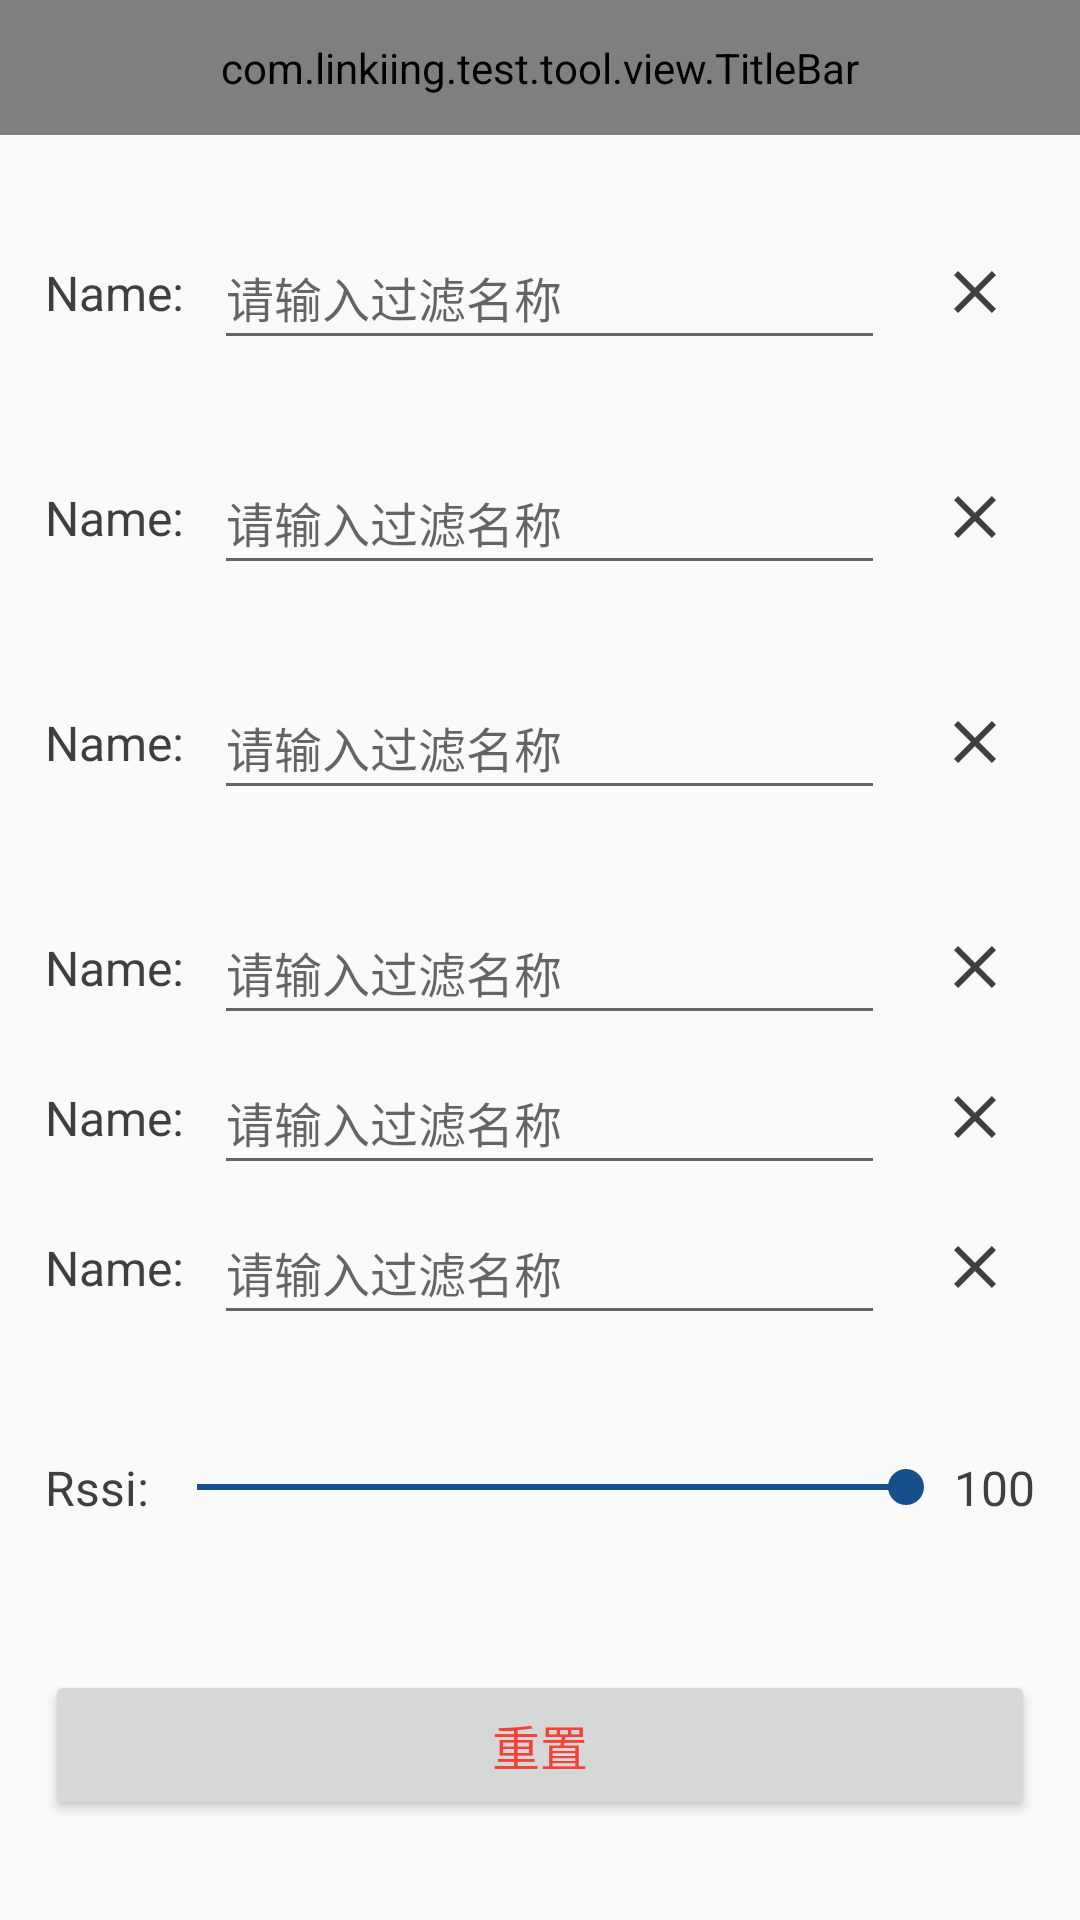

Screen size 1080w x 1920h. Icon name, then its center in pixels as [x,y]:
clear: [975,292], [975,517], [975,742], [975,967], [975,1117], [975,1267]
